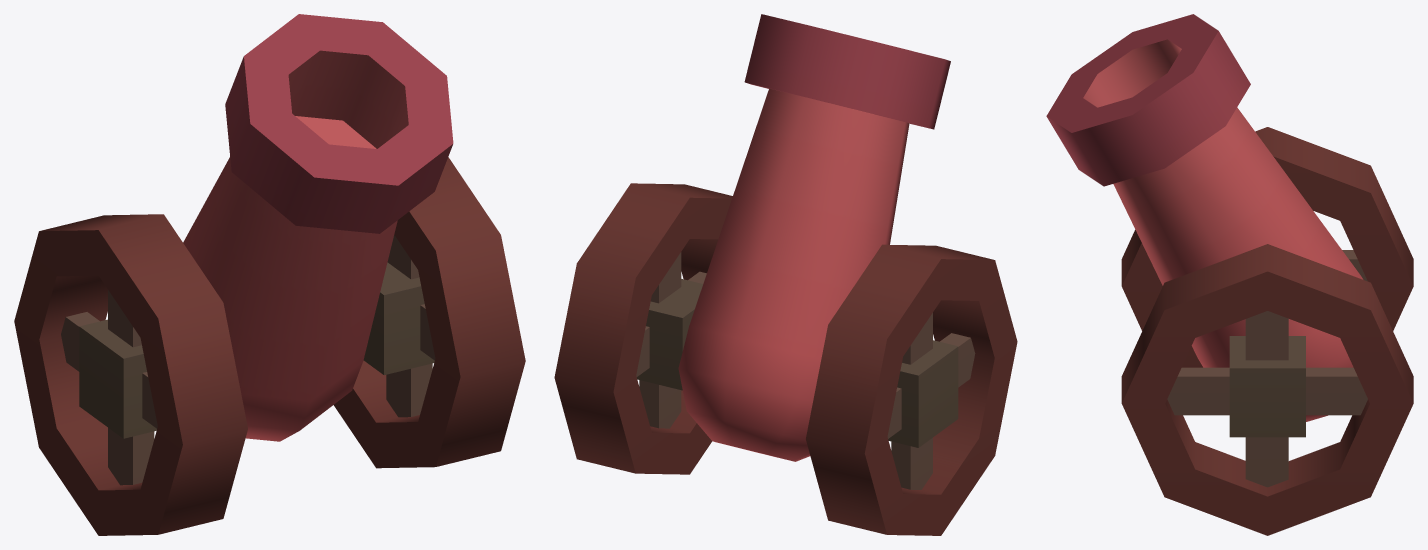
File: cannon.fbx
3 views of the same model, side by side, from view 1: azimuth 30°, elevation 25°; view 2: azimuth 150°, elevation 25°; view 3: azimuth 270°, elevation 25° (orthographic). The views are drawn at different scales.
Visible parts, largest first — view 1: cannon; view 2: cannon; view 3: cannon.
Boxes of the visible parts, bbox=[...] form: cannon: bbox=[14, 14, 525, 535]; cannon: bbox=[554, 14, 1017, 535]; cannon: bbox=[1046, 14, 1413, 535].
Bounding box in the file's own units: 1.6 × 2.23 × 1.71.
